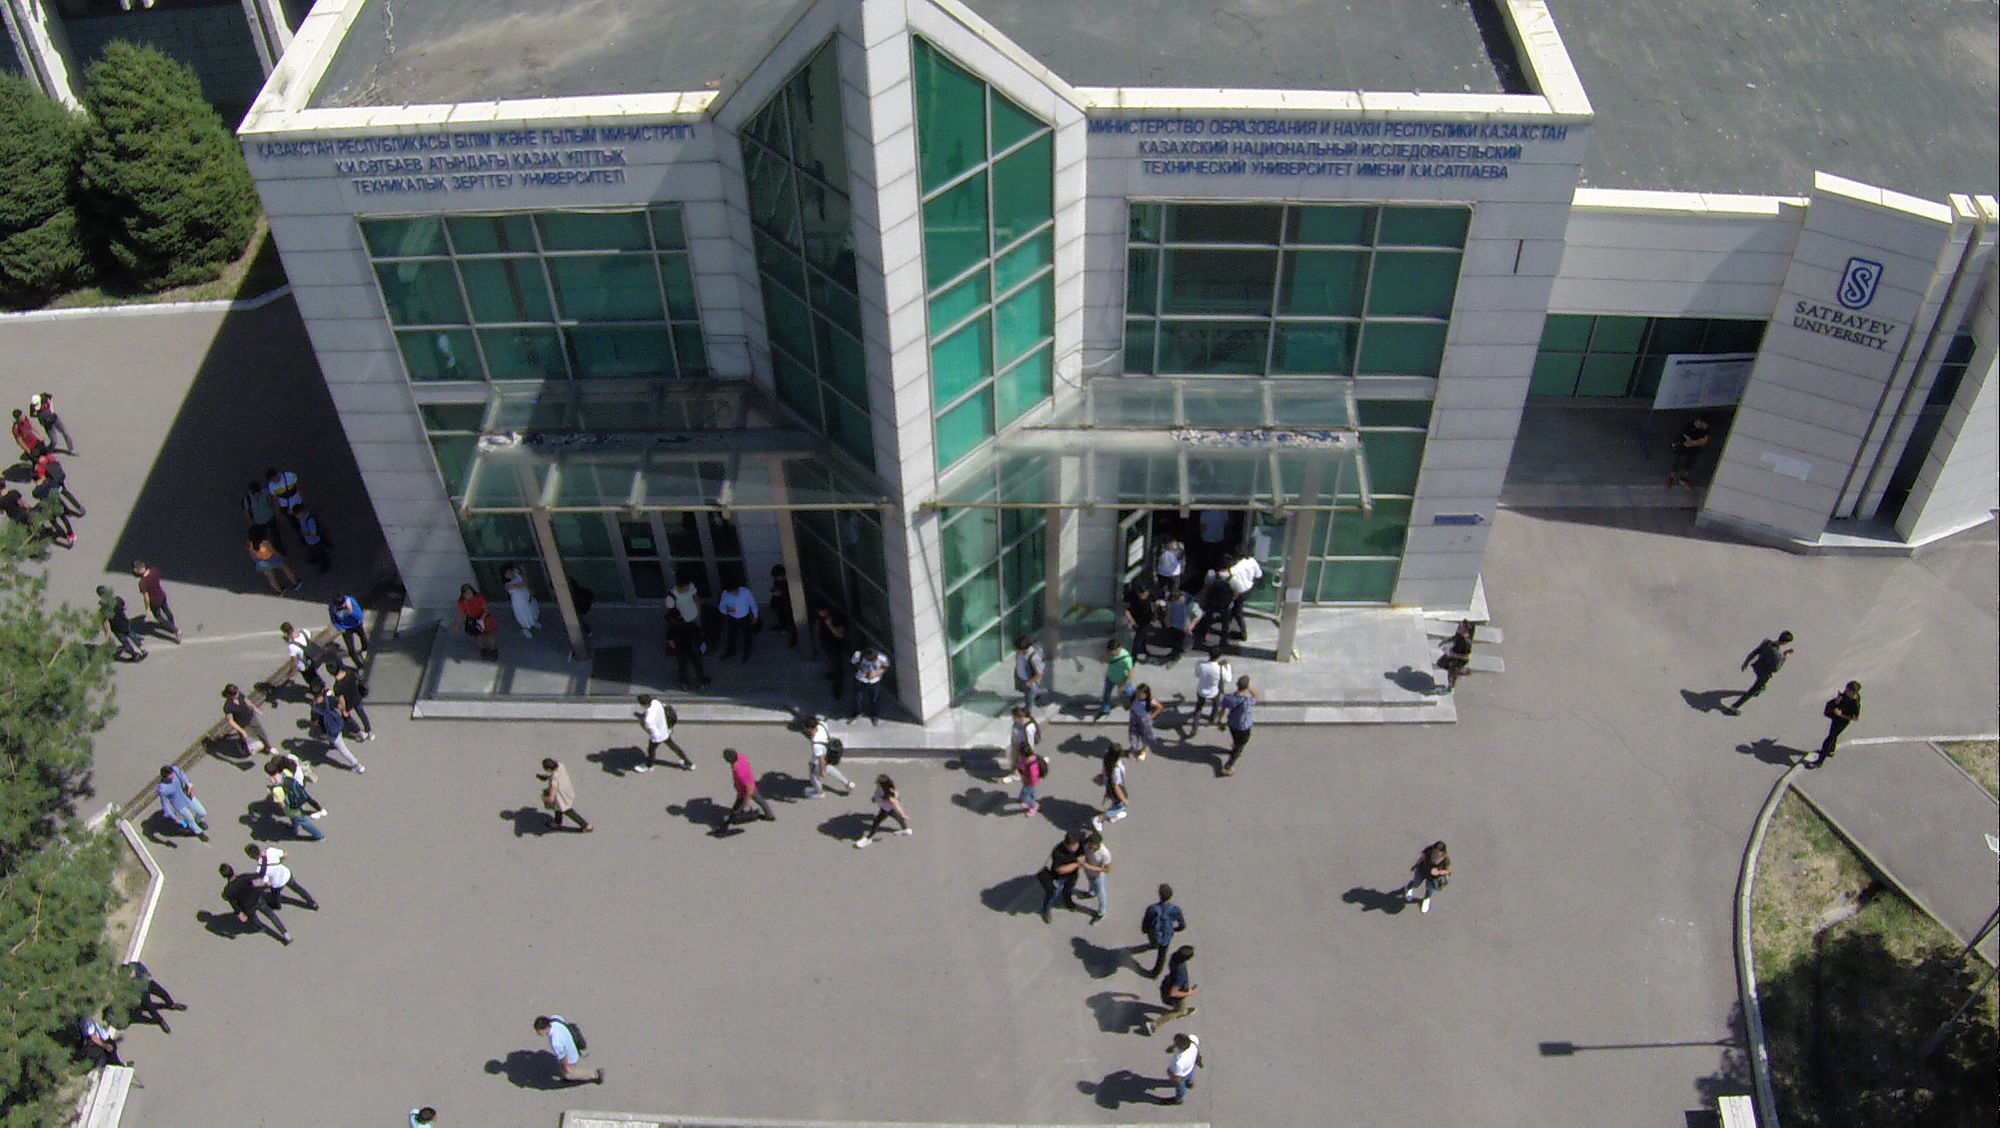person: (1724, 624, 1797, 719), (534, 1007, 614, 1093), (1137, 943, 1208, 1036), (217, 865, 290, 953), (712, 742, 774, 842), (1803, 678, 1865, 776), (634, 692, 700, 784), (536, 754, 599, 844), (90, 584, 145, 681), (247, 836, 311, 919), (857, 767, 916, 852), (1033, 831, 1086, 924), (152, 763, 211, 847), (713, 580, 765, 672), (797, 715, 849, 805), (213, 684, 272, 759), (308, 697, 358, 782), (121, 962, 179, 1034), (137, 556, 186, 643), (1160, 1027, 1208, 1113), (1139, 884, 1181, 979), (1434, 617, 1482, 701), (1399, 842, 1451, 917), (1666, 416, 1716, 494), (326, 586, 375, 664), (1188, 647, 1231, 736), (810, 595, 852, 687), (273, 618, 324, 693), (253, 769, 308, 836), (501, 560, 545, 642), (247, 528, 297, 597), (456, 584, 497, 668), (661, 610, 706, 686), (849, 646, 892, 725), (1097, 742, 1135, 831), (1221, 684, 1259, 769), (1092, 641, 1131, 725), (1124, 680, 1161, 767), (1007, 742, 1044, 819), (1161, 591, 1197, 667), (1086, 833, 1112, 935), (294, 503, 331, 570), (768, 569, 798, 647), (1017, 639, 1046, 715), (1149, 531, 1186, 586), (1123, 583, 1154, 647), (236, 483, 281, 525), (662, 569, 707, 609), (266, 469, 307, 512), (1012, 708, 1042, 754)
